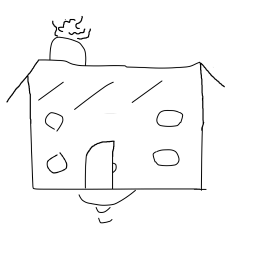door: (79, 137, 122, 190)
open_window: (148, 144, 190, 175), (153, 104, 185, 140), (41, 147, 71, 179), (41, 109, 68, 132)
single_line_roof: (5, 55, 230, 104)
smoking_chimney: (44, 11, 98, 75)
wall: (24, 94, 209, 195)
